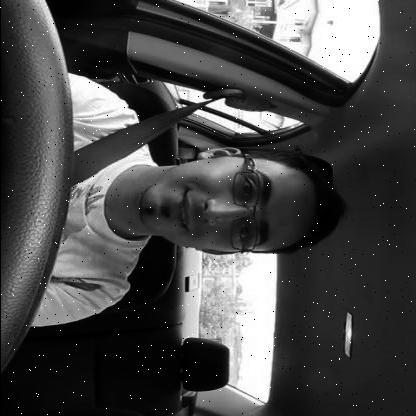seatbelt: (0, 83, 353, 277)
